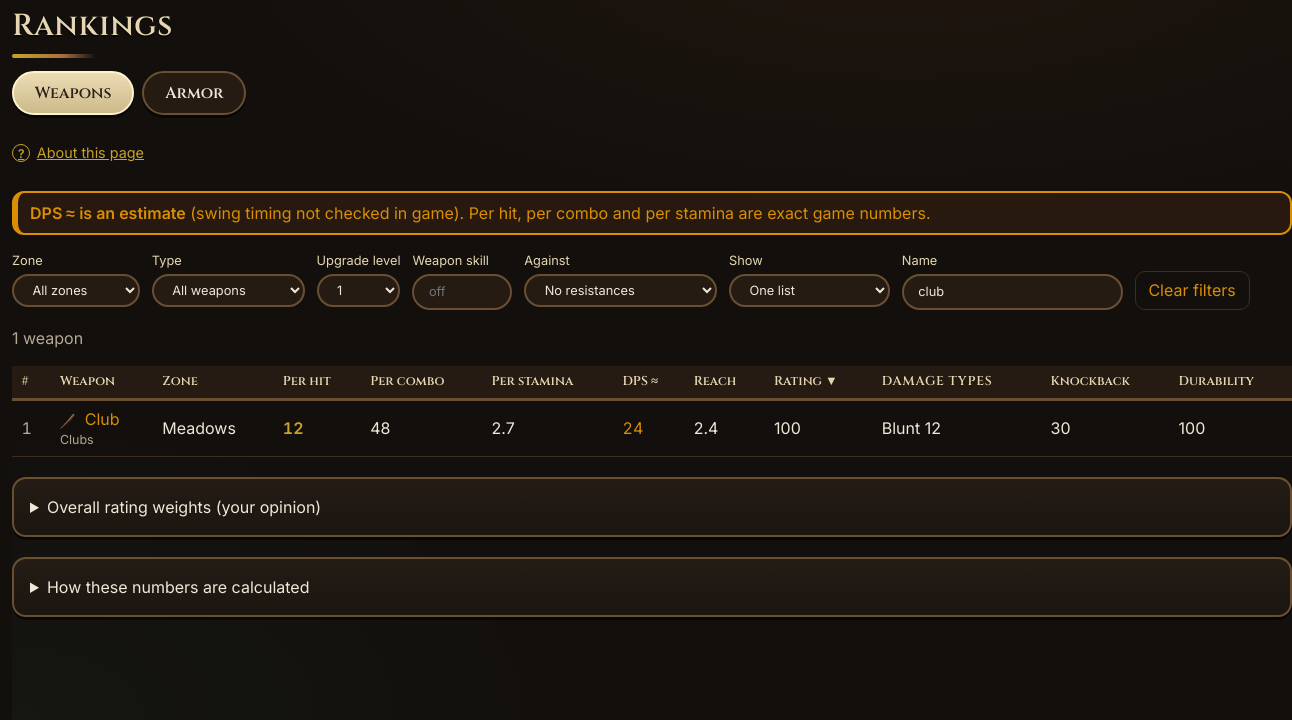
Test: weapon rankings page › applies a creature's resistances
Expected: the cell "12" is shown, [273,399,361,456]
Select "Troll" in the dropdown labelled "Against" at (621, 290), box [524,274,717,307]
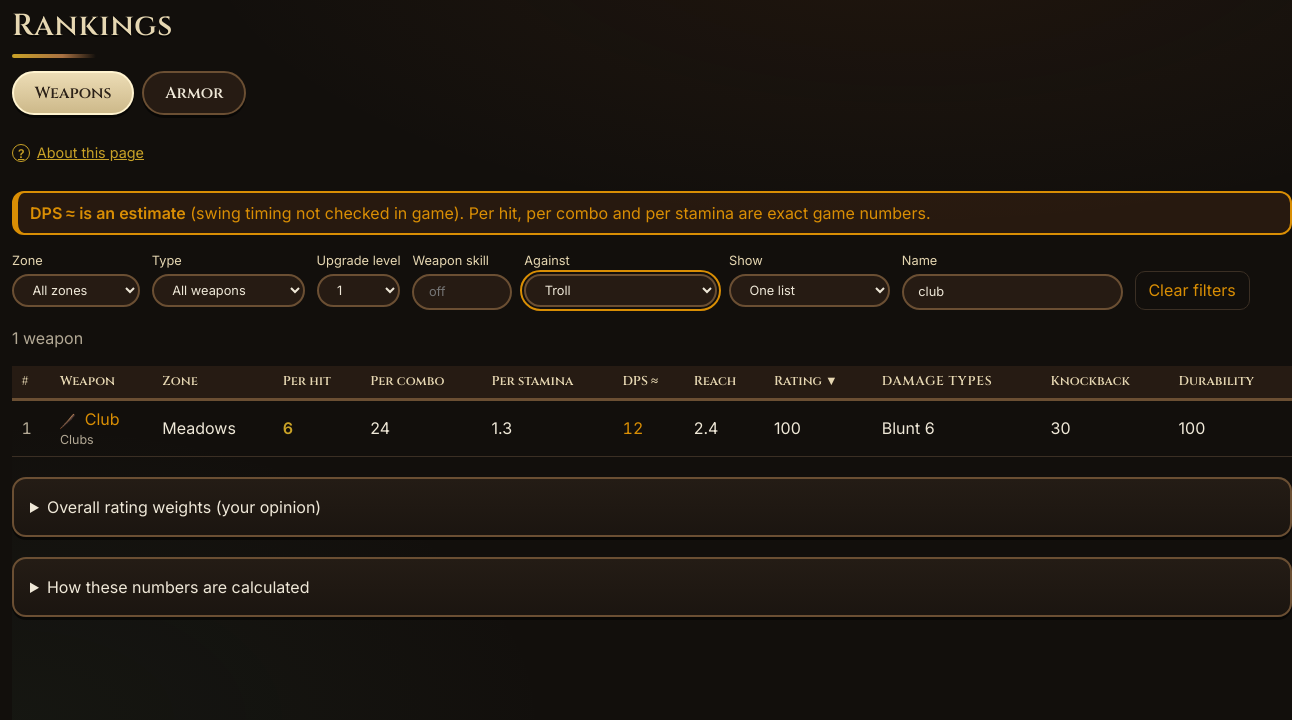
Result: the cell "6" is shown at [273,399,361,456]
